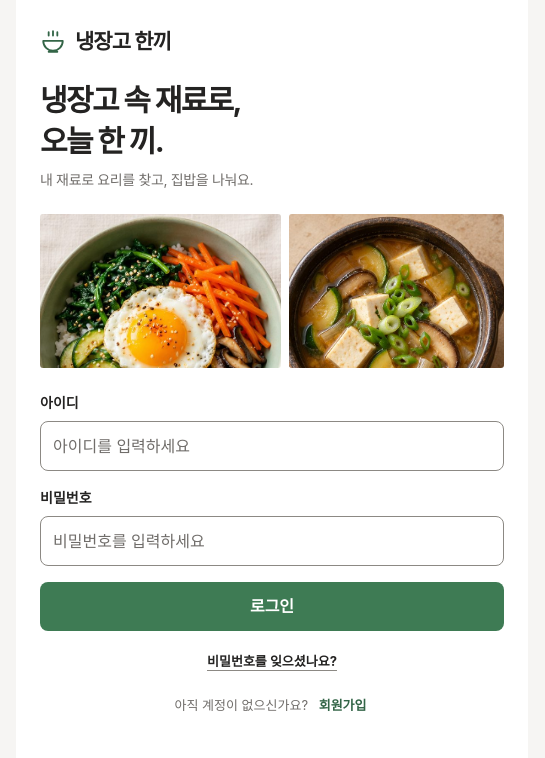
Test: 로그인 화면 › 아이디나 비밀번호가 틀리면 백엔드 문구를 그대로 보여준다
The width and height of the screenshot is (545, 758).
Type "jisu" into the field labelled "아이디" at coordinates (272, 446), box [40,421,504,471]
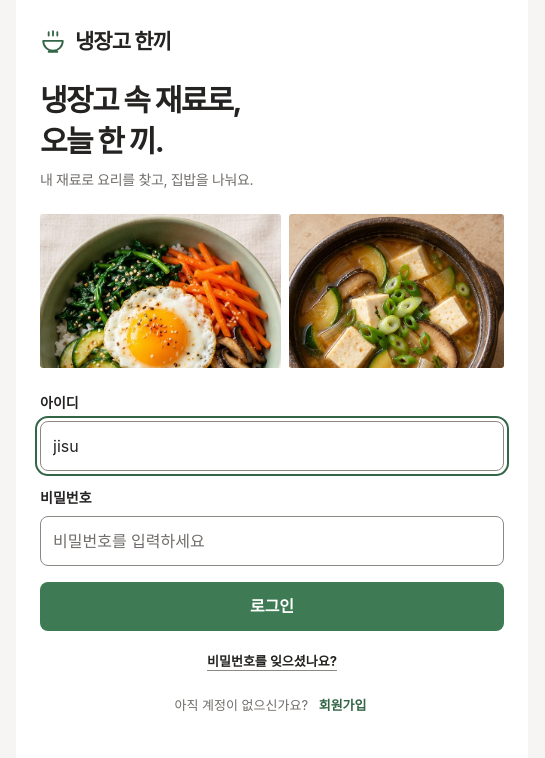
Type "pw123456" into the password field labelled "비밀번호" at coordinates (272, 541), box [40,516,504,566]
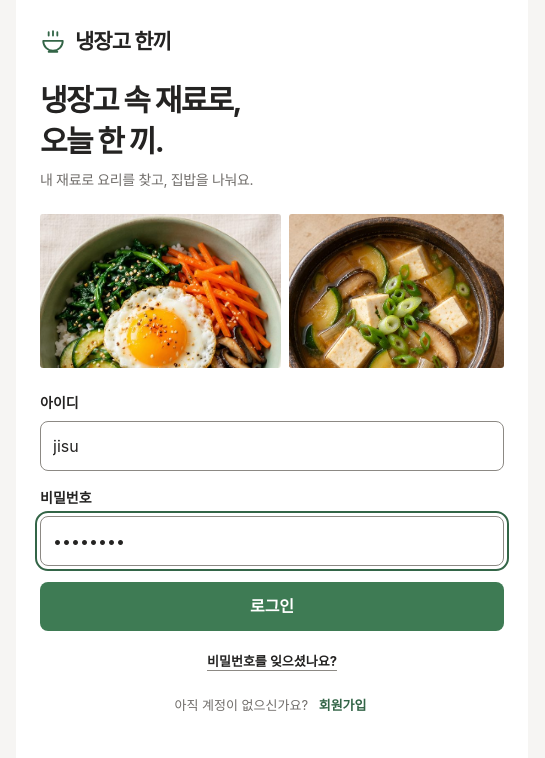
Click the button "로그인" at coordinates (272, 606), box [40,582,504,631]
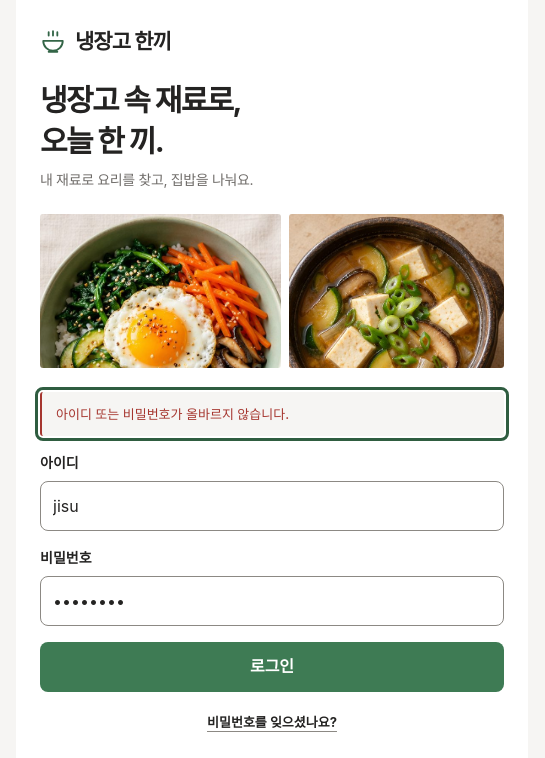
expect the button "로그인" is shown: met, box [40,642,504,692]
expect the message reads "아이디 또는 비밀번호가 올바르지 않습니다.": met, box [56,406,289,422]
